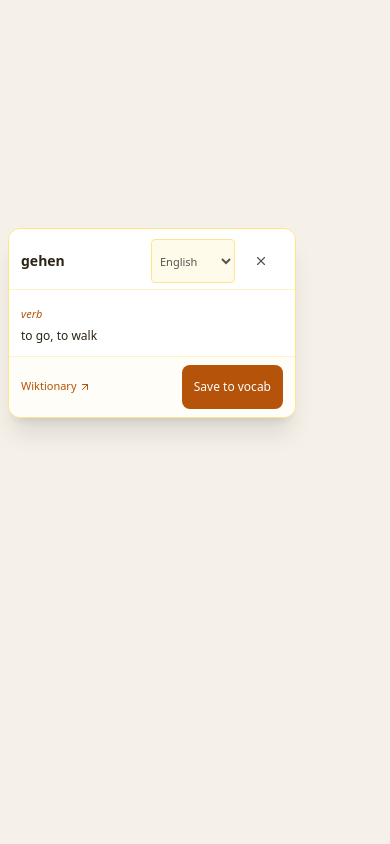
it: tooltip dictionary-language picker › re-fetches in the newly chosen language
The width and height of the screenshot is (390, 844).
Expected: the text "to go, to walk" is shown, [21,327,97,344]
Select "中文" in the dropdown named "definition language" at (193, 261), box [151,239,235,283]
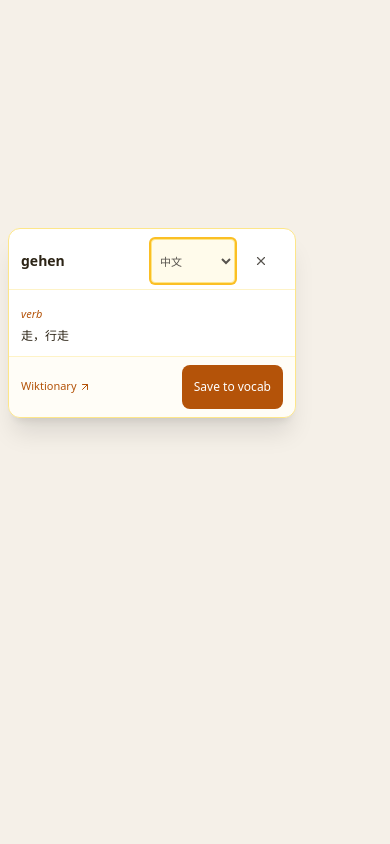
Result: the text "走，行走" is shown at [21,327,69,344]
